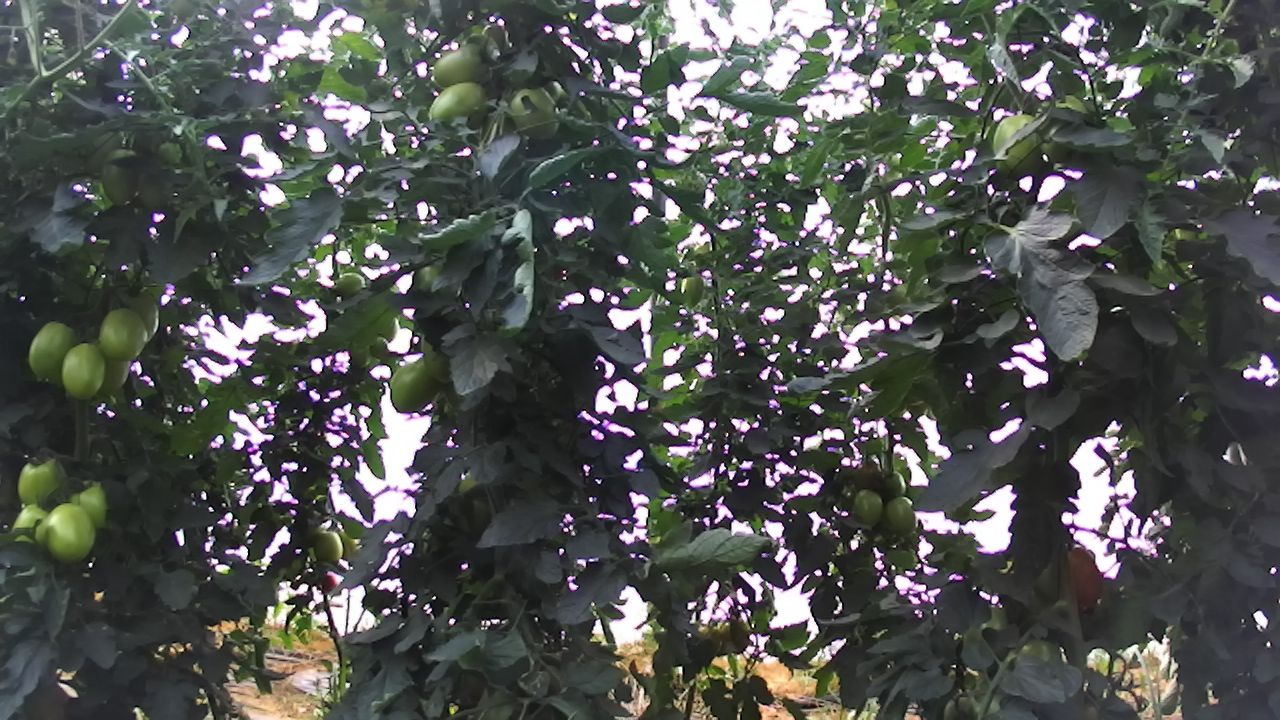tomato: (416, 79, 494, 138), (383, 350, 450, 416), (24, 316, 83, 384), (43, 501, 100, 569), (428, 37, 495, 93), (13, 453, 73, 513), (60, 336, 110, 403), (97, 306, 151, 364), (847, 483, 887, 531), (881, 494, 919, 538)
